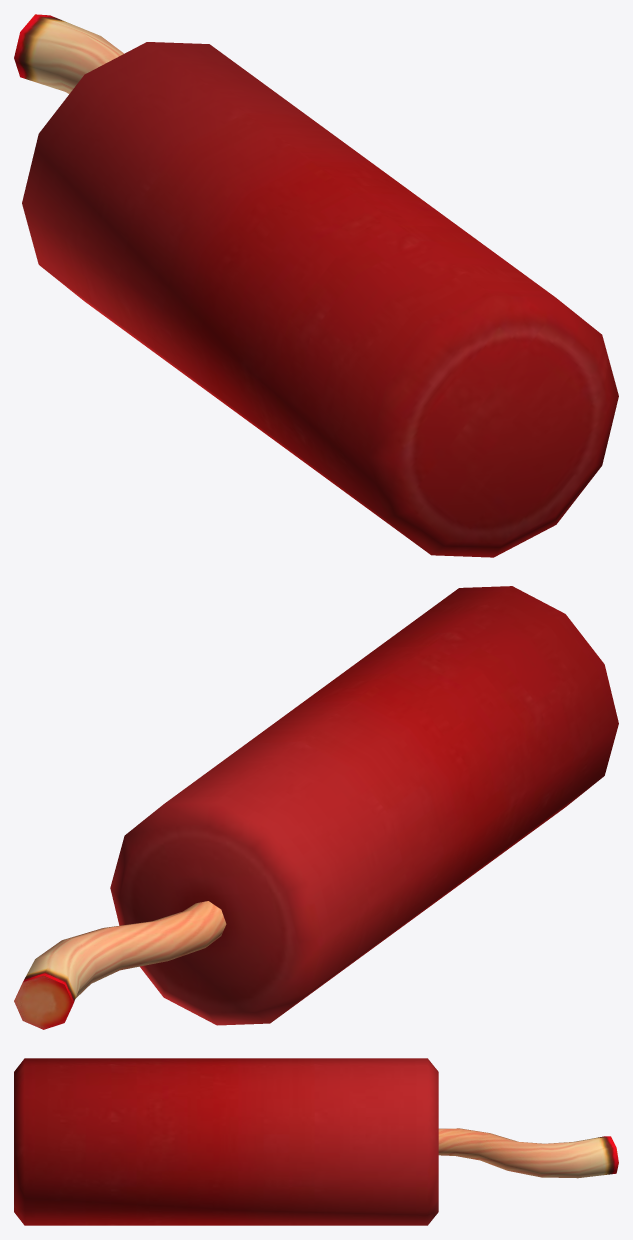
File: dynamite.glb
3 renders of one model, top to bottom at view 1: azimuth 30°, elevation 25°; view 2: azimuth 150°, elevation 25°; view 3: azimuth 270°, elevation 25°, orthographic. The views are drawn at different scales.
Size of the model in its own units: 0.2777 by 0.2777 by 1.
1 material, 1 textured.
